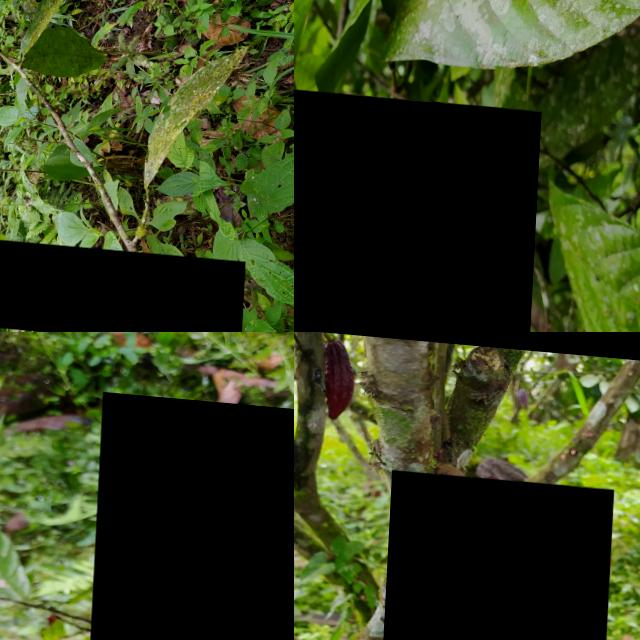Fitoftora: (86, 387, 294, 640)
Monilia: (294, 72, 544, 332), (0, 231, 250, 332)
Sana: (378, 466, 615, 640), (316, 333, 359, 419)
